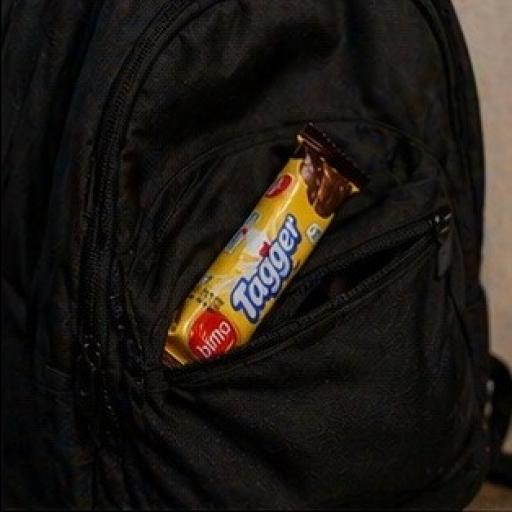tagger: (136, 103, 382, 412)
